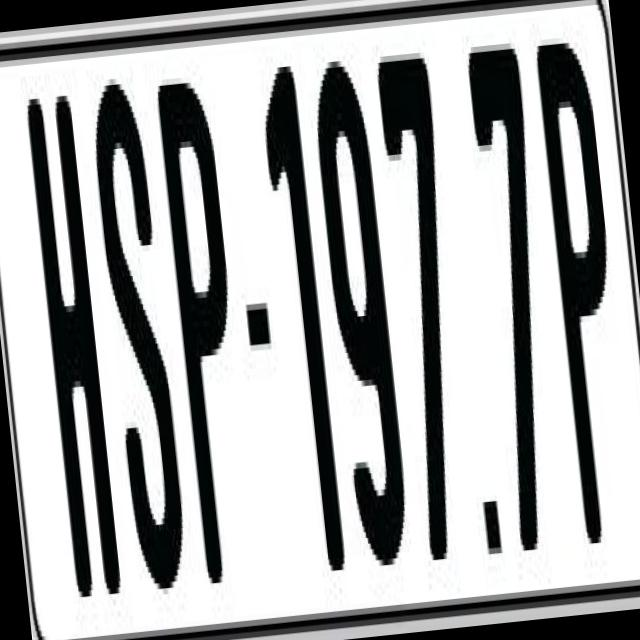1: (256, 48, 343, 555)
7: (461, 36, 571, 575), (370, 40, 474, 549)
9: (306, 47, 418, 590)
H: (23, 95, 126, 609)
P: (530, 41, 637, 579), (156, 80, 264, 595)
S: (86, 71, 190, 614)
